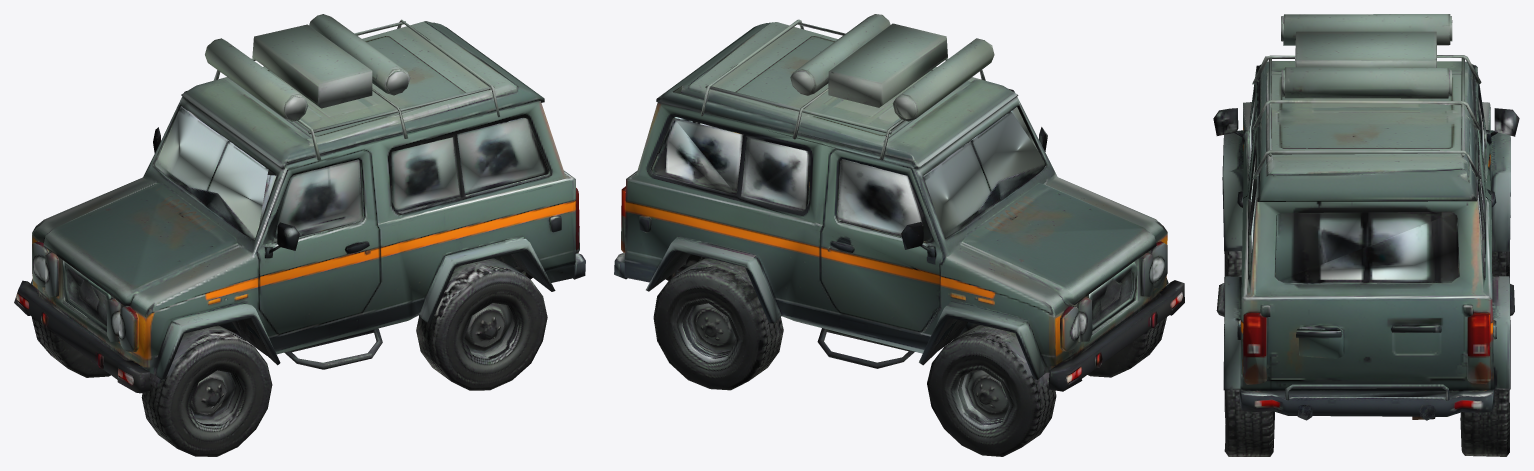
File: RecoveryCar-refine.glb
The picture shows the model from 3 angles, left to right: view 1: azimuth 30°, elevation 25°; view 2: azimuth 150°, elevation 25°; view 3: azimuth 270°, elevation 25°; orthographic projection. The views are drawn at different scales.
Size of the model in its own units: 1 by 0.6543 by 0.5254.
1 material, 1 textured.
